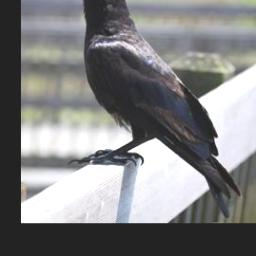Crow: (67, 0, 244, 217)
